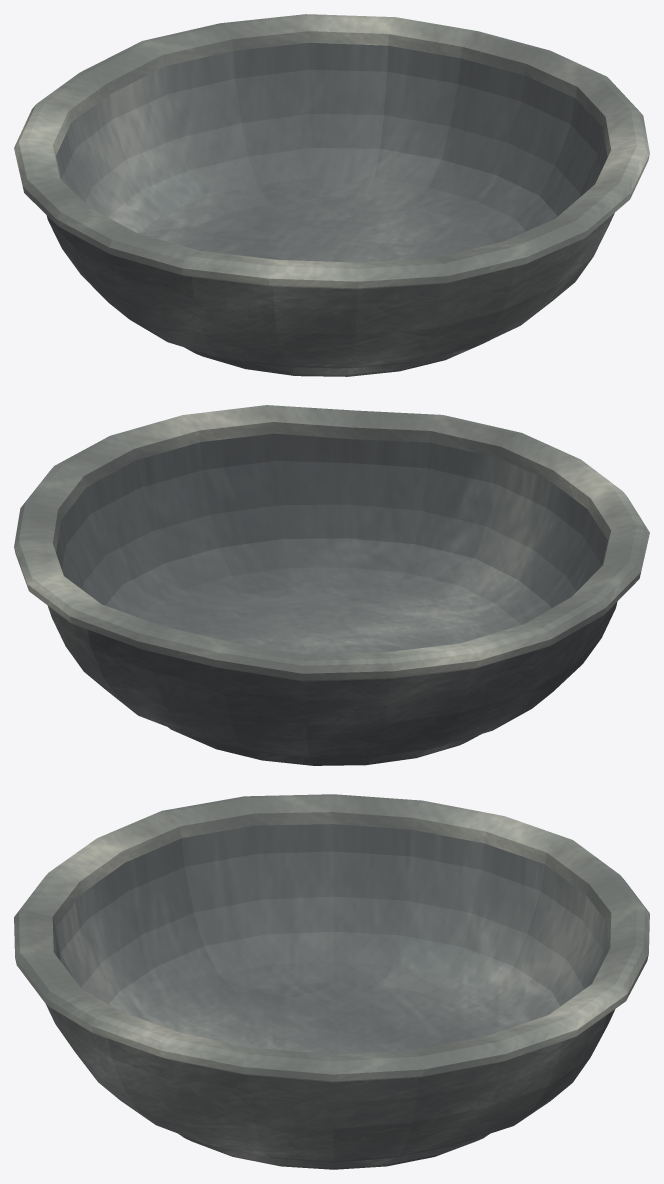
Rendered from Bacia-de-Lavar.glb.
The picture shows the model from 3 angles, top to bottom: view 1: azimuth 30°, elevation 25°; view 2: azimuth 150°, elevation 25°; view 3: azimuth 270°, elevation 25°; orthographic projection. The views are drawn at different scales.
Parts seen in each view (by area): view 1: Interior, Borda rebatida, Corpo; view 2: Interior, Borda rebatida, Corpo; view 3: Interior, Borda rebatida, Corpo.
Part boxes in pixels (x1=…): Interior: x1=56, y1=43, x2=607, y2=262; Borda rebatida: x1=14, y1=14, x2=649, y2=289; Corpo: x1=46, y1=213, x2=614, y2=376; Interior: x1=56, y1=433, x2=607, y2=654; Borda rebatida: x1=14, y1=405, x2=649, y2=681; Corpo: x1=48, y1=601, x2=617, y2=765; Interior: x1=56, y1=824, x2=607, y2=1054; Borda rebatida: x1=14, y1=794, x2=649, y2=1082; Corpo: x1=46, y1=1004, x2=615, y2=1169.
Bounding box in the file's own units: 0.394 × 0.1076 × 0.3805.
Materials: 3 (3 with a texture image).
